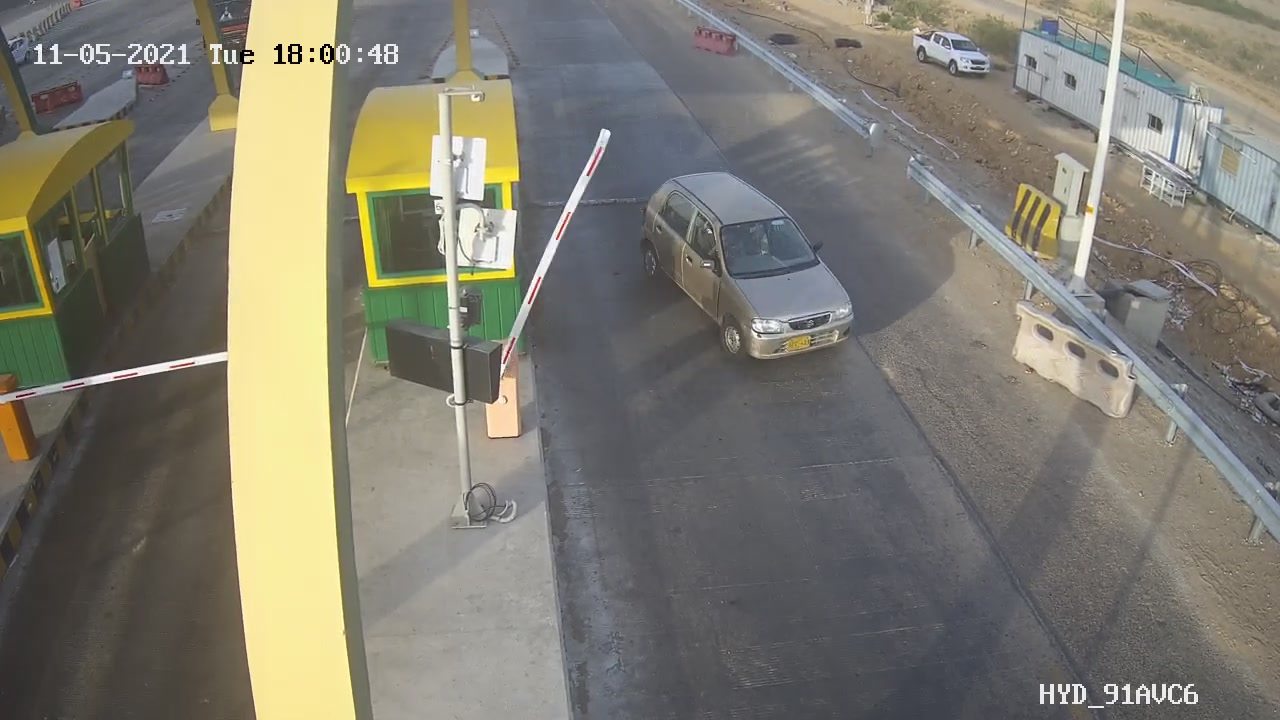F1: (621, 169, 886, 369)
